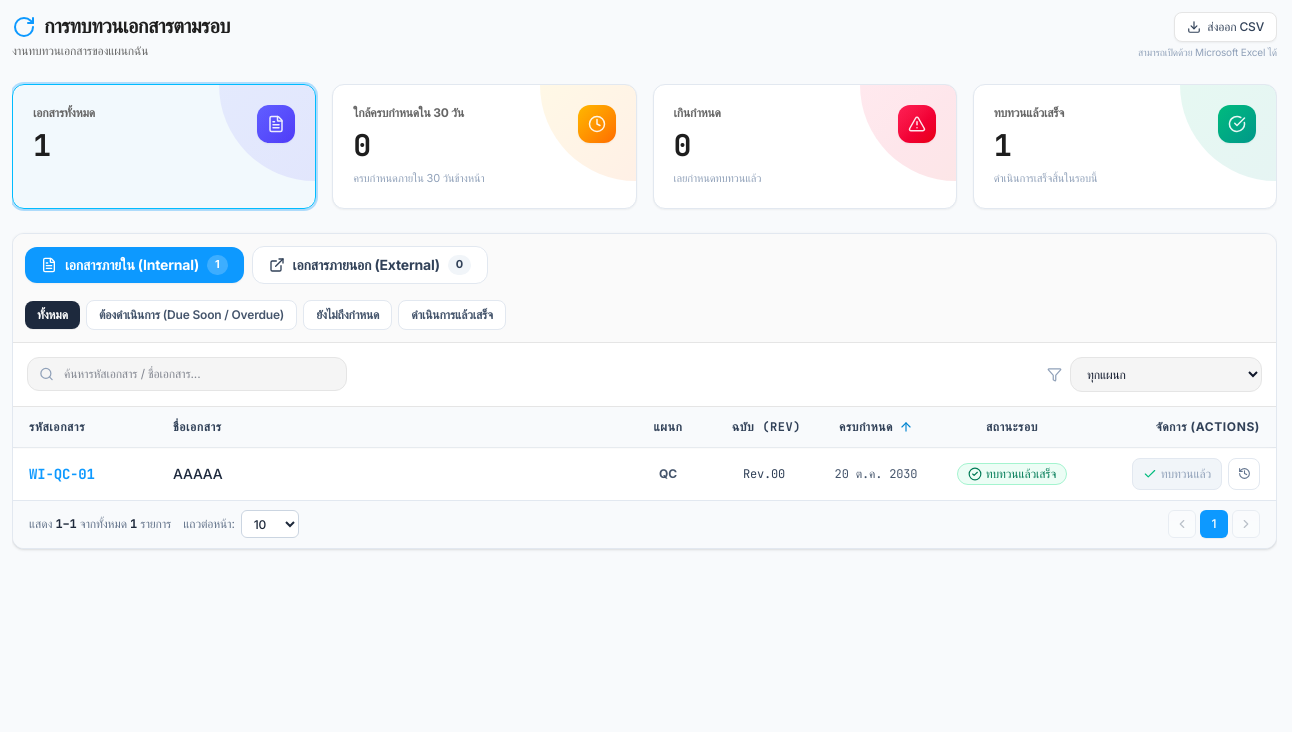
Test case: Periodic review: status after the approval decision › approved review counts as COMPLETED in the KPI card and the "ดำเนินการแล้วเสร็จ" tab
Expected: the 2nd heading "1" is shown, [994,125,1011,165]
What coordinates should you click on to do the following:
click the button "ดำเนินการแล้วเสร็จ"
I would click on:
 (452, 315)
Its box is [398,300,506,330].
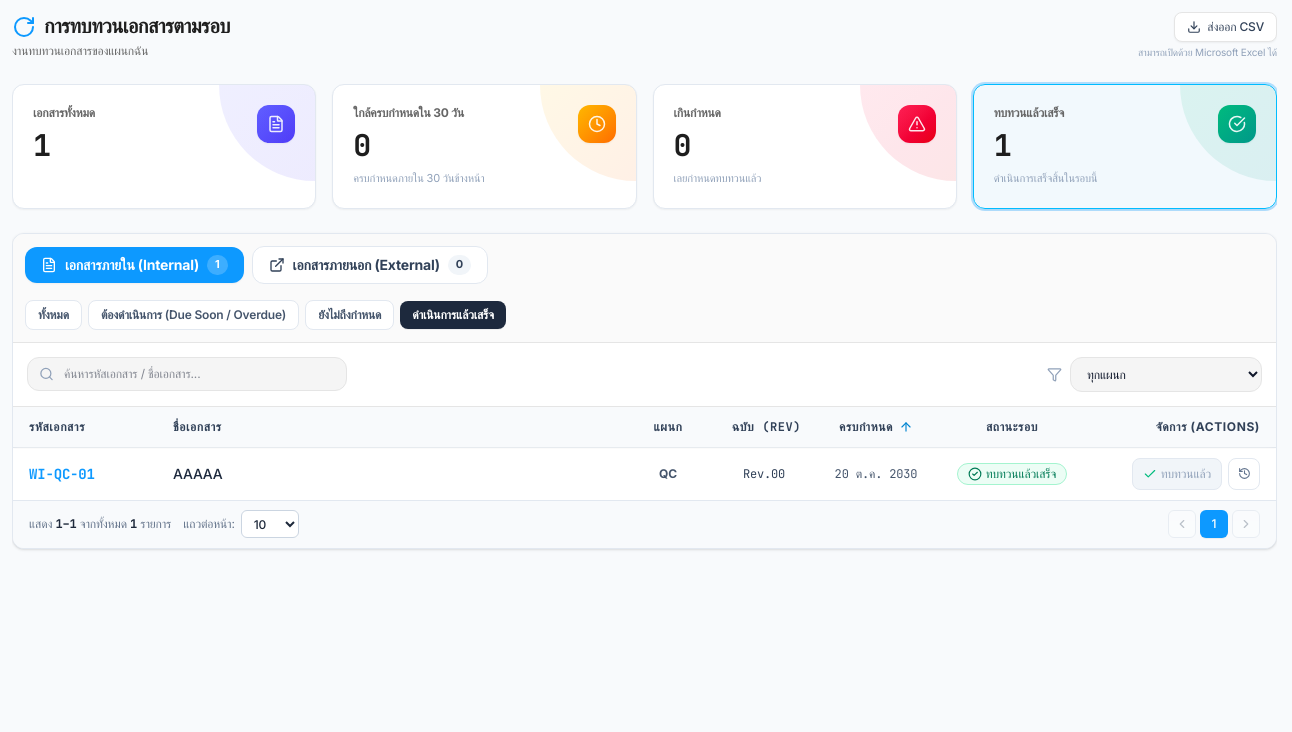
Expected: the text "WI-QC-01" is shown, [13,447,157,500]
What coordinates should you click on to do the following:
click the button "ยังไม่ถึงกำหนด"
I would click on:
 (350, 315)
Its box is [305,300,394,330].
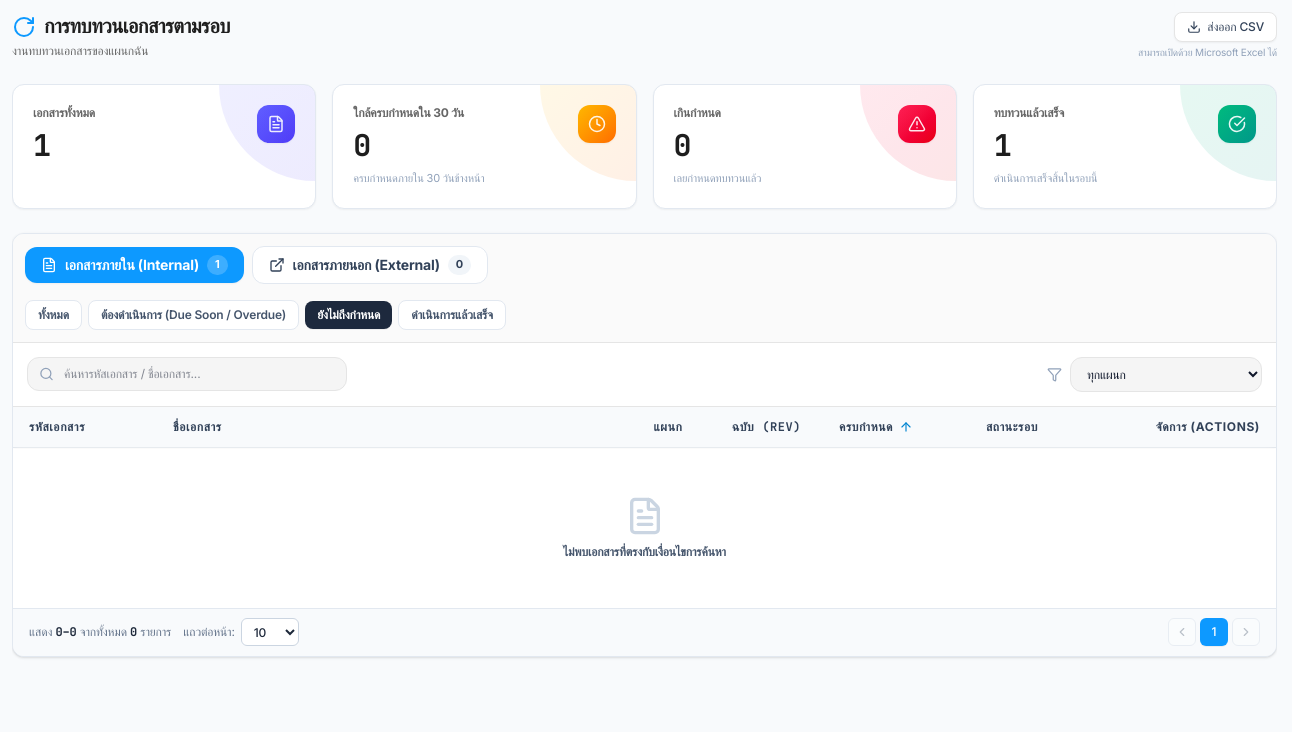
Result: the text "WI-QC-01" is gone
